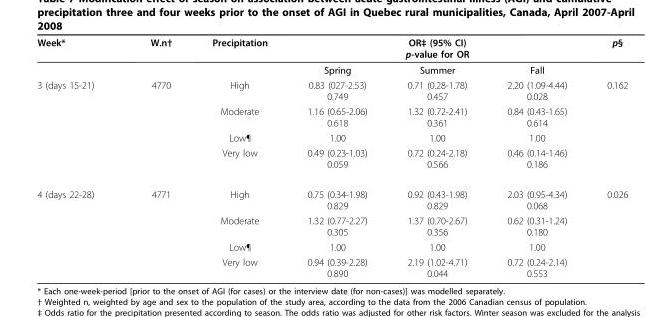table: (36, 36, 627, 278)
table column: (286, 36, 386, 278), (386, 36, 486, 278), (486, 36, 586, 278), (191, 36, 286, 278), (36, 36, 121, 278), (121, 36, 191, 278), (586, 36, 627, 278)
table column header: (36, 36, 627, 77)
table row: (36, 144, 627, 178), (36, 178, 627, 212), (36, 212, 627, 239), (36, 77, 627, 103), (36, 103, 627, 129), (36, 36, 627, 61), (36, 254, 627, 278), (36, 61, 627, 77), (36, 129, 627, 144), (36, 239, 627, 254)
table spanning cell: (36, 77, 121, 178), (36, 178, 121, 278), (286, 36, 586, 61), (191, 36, 286, 77), (36, 36, 121, 77), (121, 36, 191, 77), (586, 36, 627, 77)
